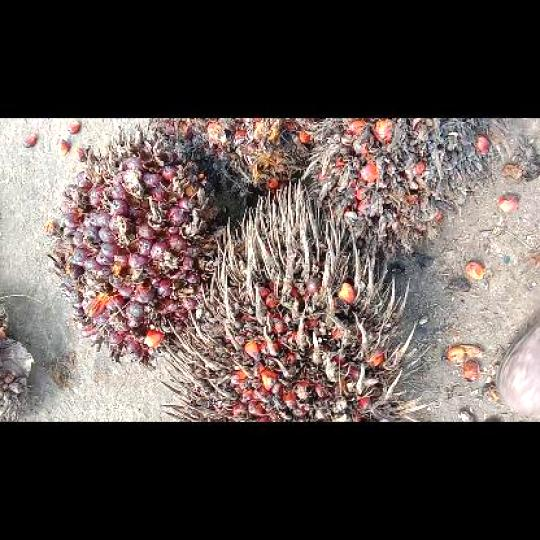masak: (49, 120, 226, 364), (153, 118, 322, 196)
terlalu masak: (161, 179, 428, 421), (304, 118, 490, 251)
